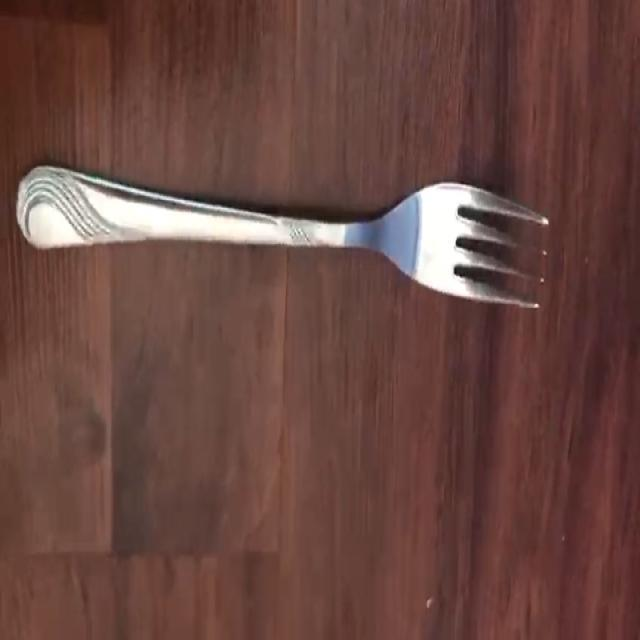spoon: (16, 166, 548, 306)
